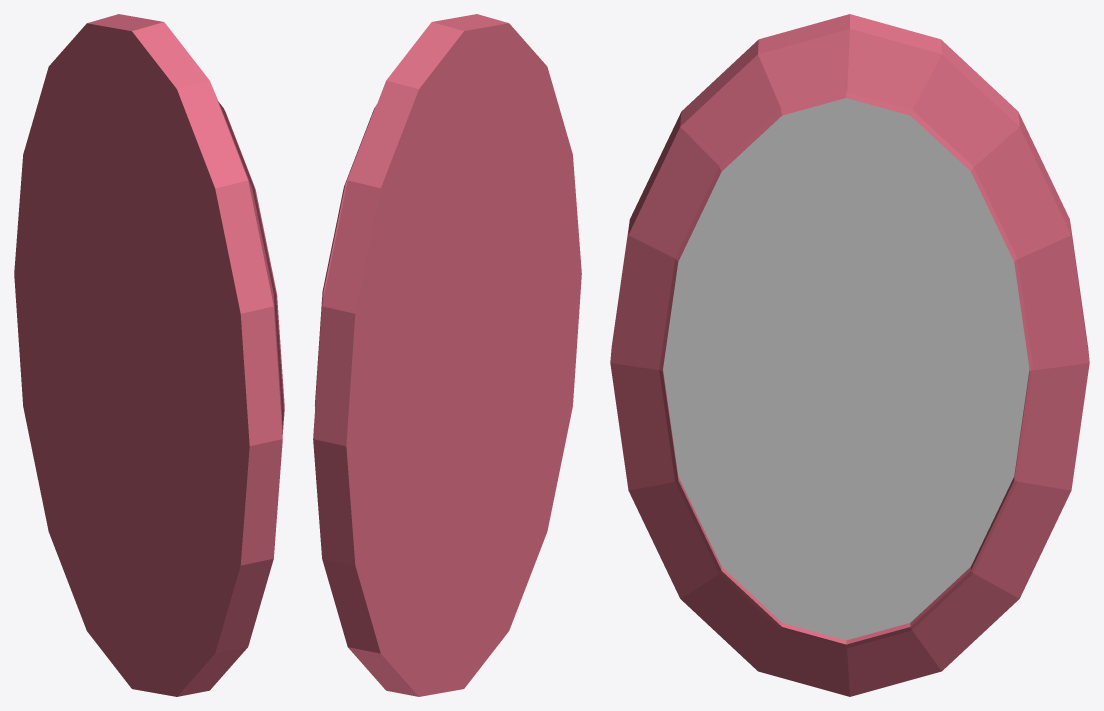
Rendered from lustro1.fbx.
3 views of the same model, side by side, from view 1: azimuth 30°, elevation 25°; view 2: azimuth 150°, elevation 25°; view 3: azimuth 270°, elevation 25° (orthographic).
Visible parts, largest first — view 1: Circle; view 2: Circle; view 3: Circle.
Part boxes in pixels (x1,y1,x2,y2): Circle: (14,14,284,696); Circle: (313,14,581,696); Circle: (610,14,1089,696).
Bounding box in the file's own units: 13.43 × 140 × 91.31.
